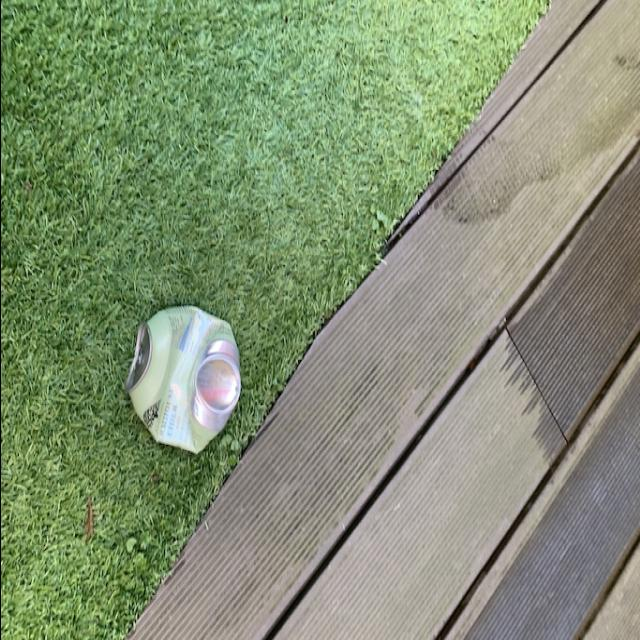Aluminum Can: (122, 301, 243, 471)
